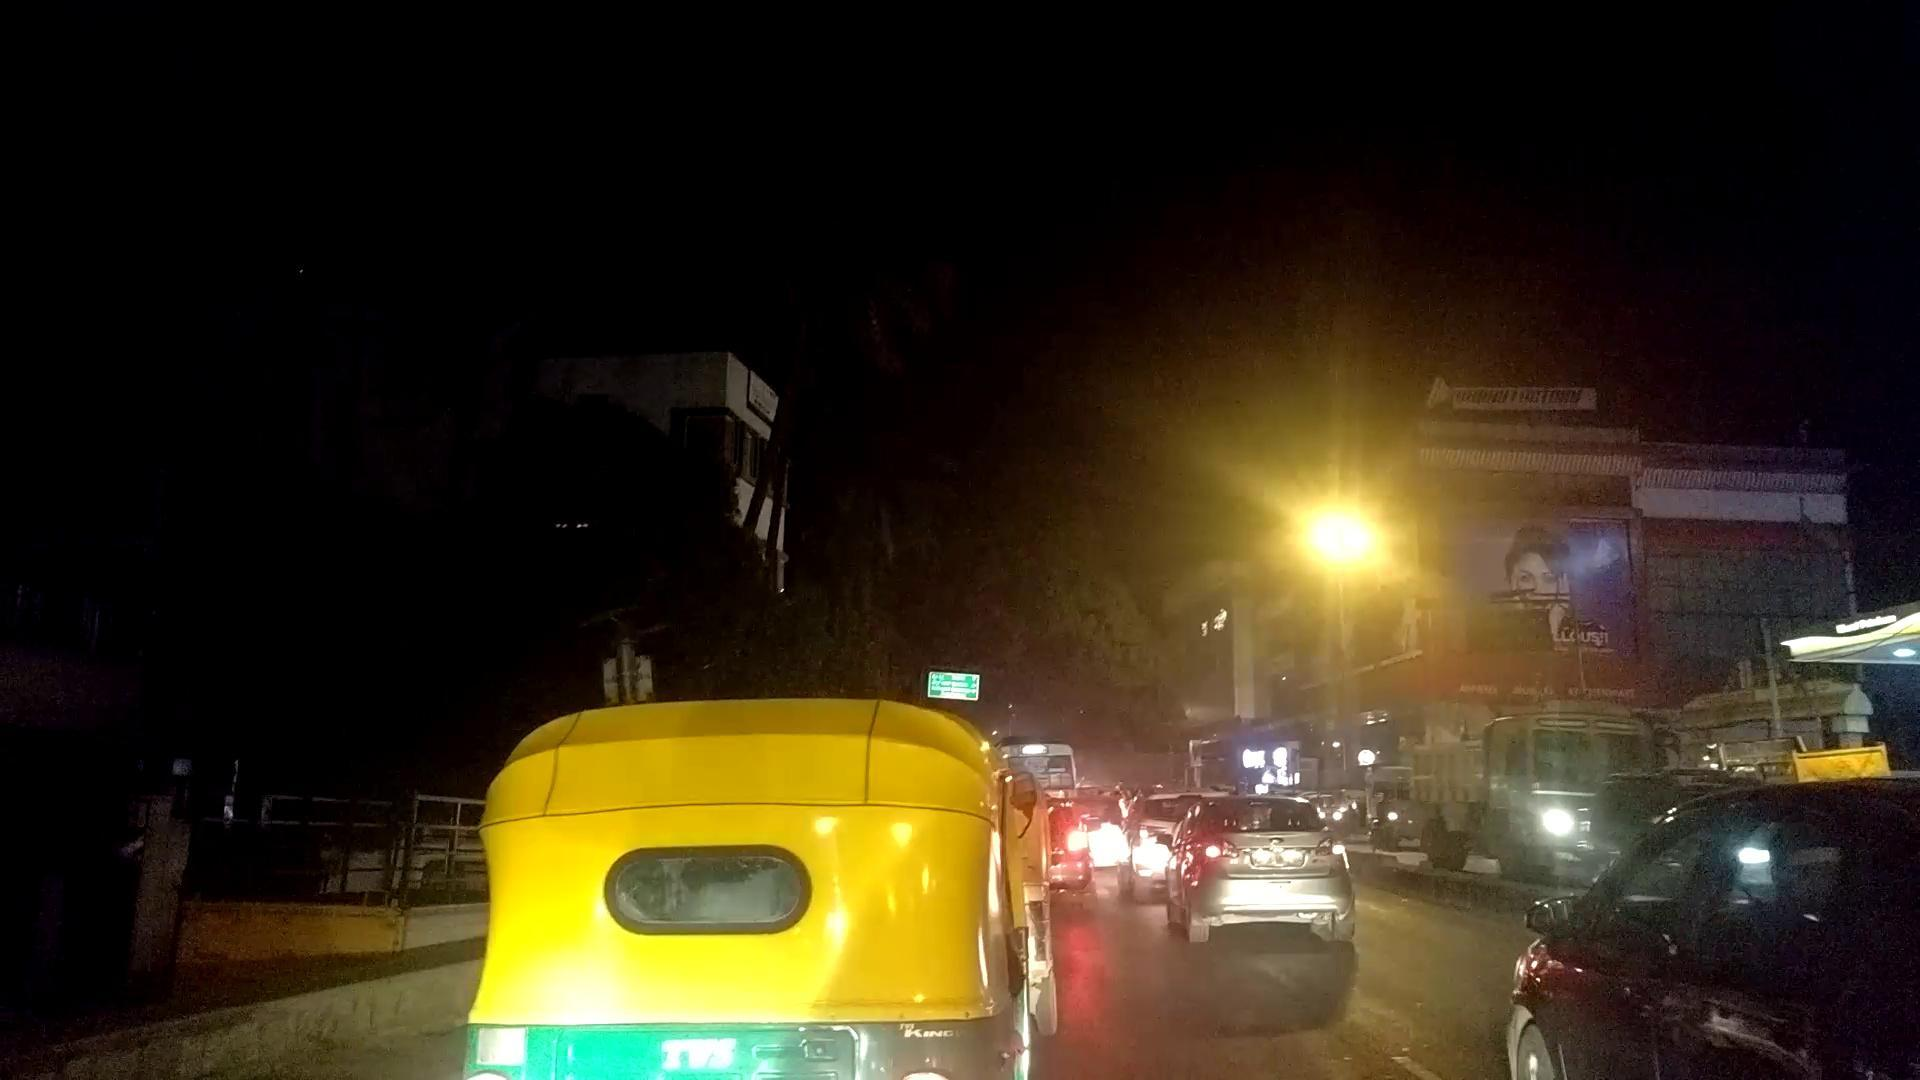on: (1200, 282, 1535, 771)
